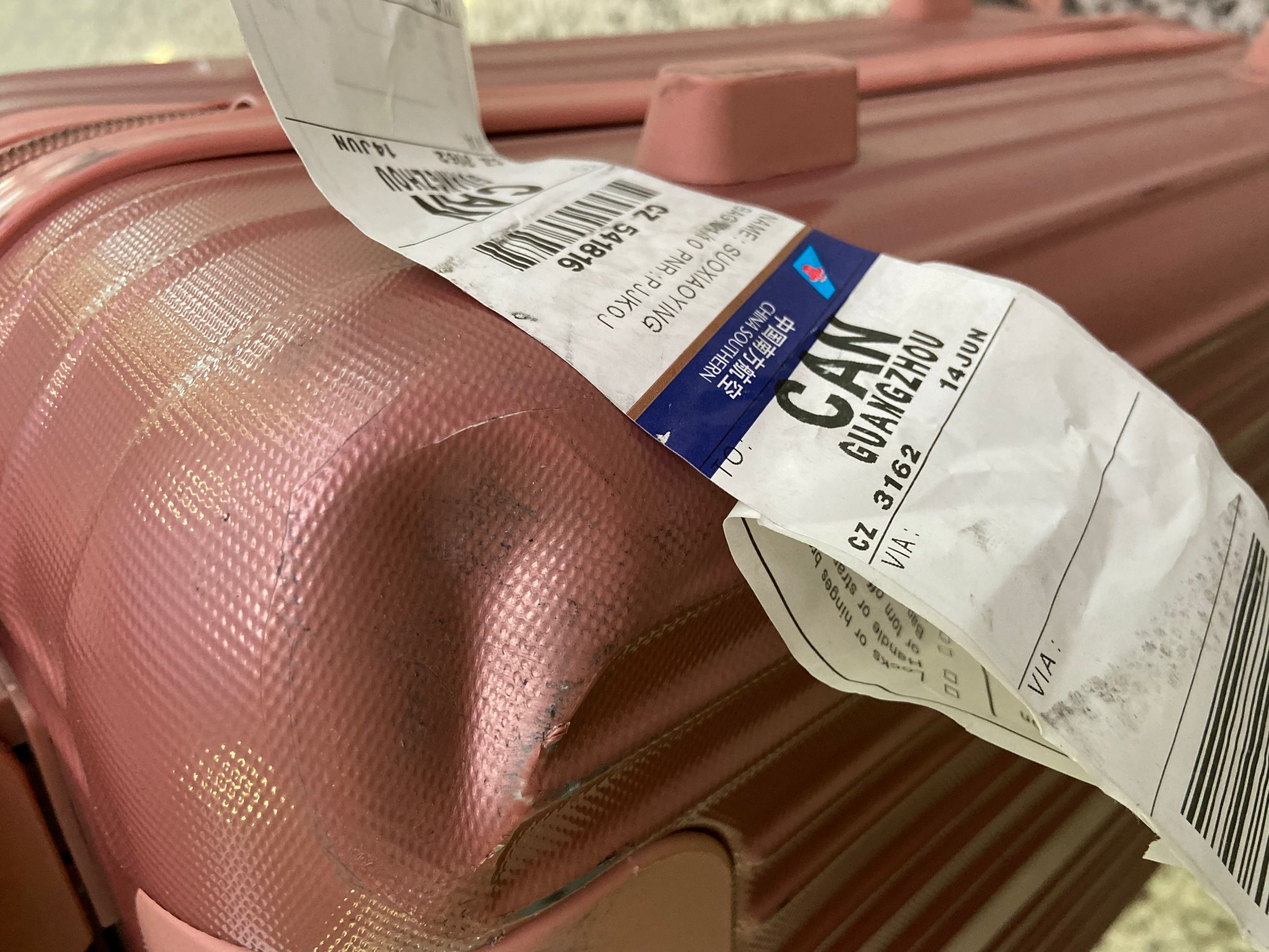rupture: (288, 397, 608, 888)
